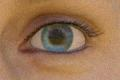eye: (42, 25, 72, 51)
